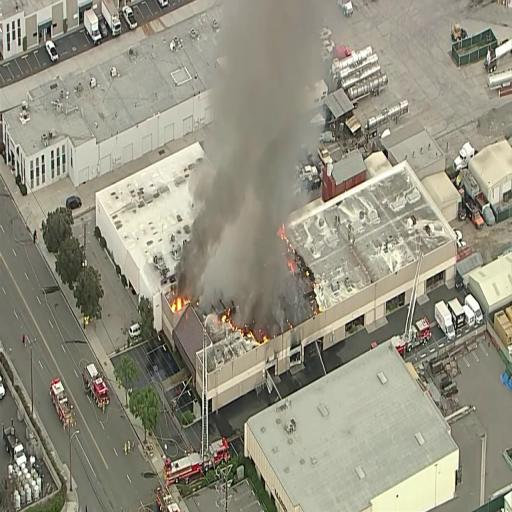smoke: (216, 9, 303, 249)
